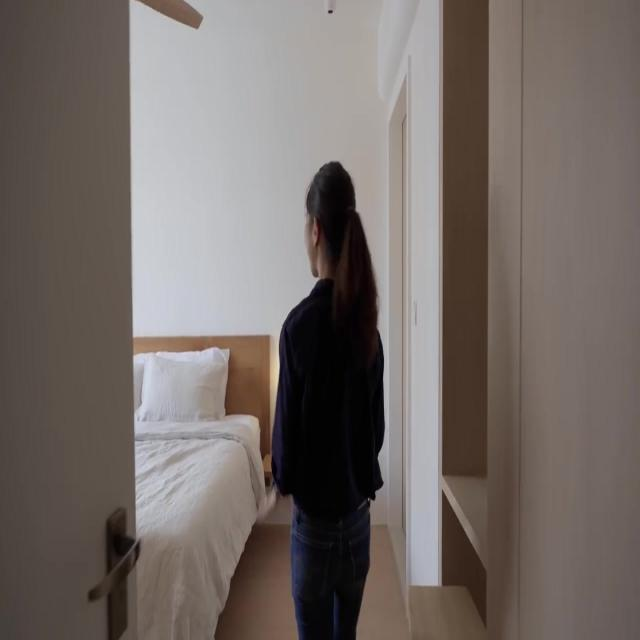obstacle: (133, 334, 273, 638)
person: (270, 160, 385, 639)
